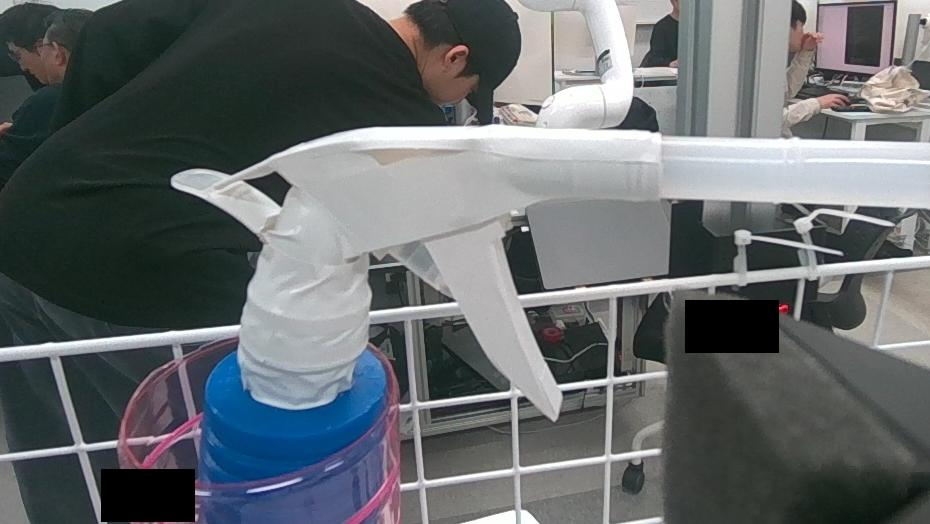Nozzle: (154, 105, 663, 524)
